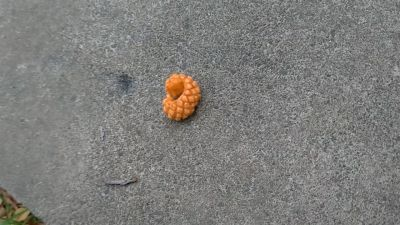eggs: (163, 73, 200, 122)
